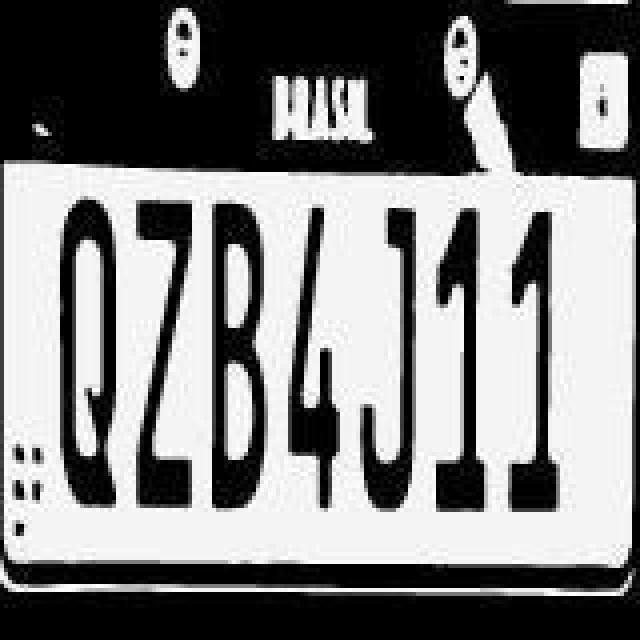1: (500, 214, 572, 506), (430, 214, 498, 522)
4: (288, 208, 352, 512)
B: (204, 198, 276, 522)
J: (358, 208, 426, 512)
Q: (54, 200, 130, 504)
Z: (130, 196, 206, 508)
